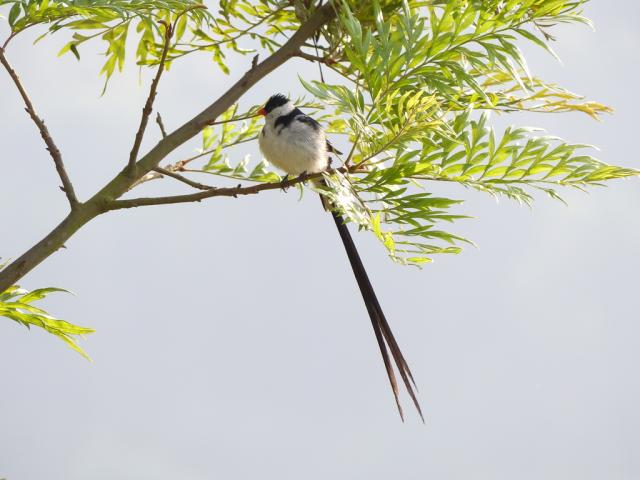Bird: (256, 92, 426, 424)
